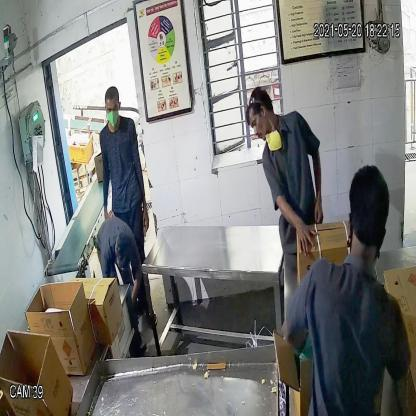no_goggles: (246, 112, 266, 134)
